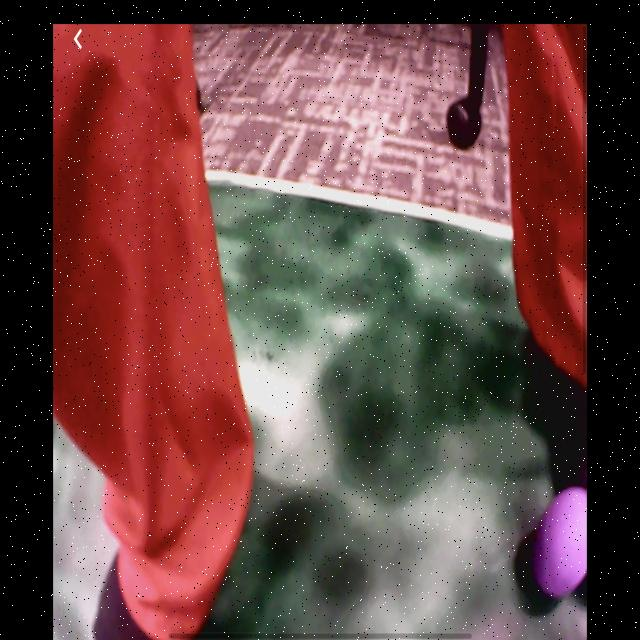ball: (531, 488, 586, 600)
